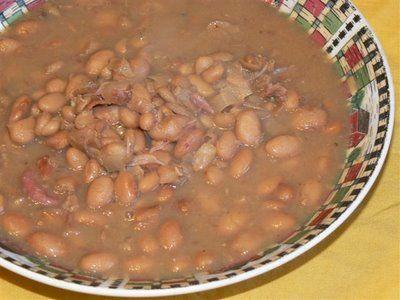RajmaCurry: (3, 0, 350, 275)
